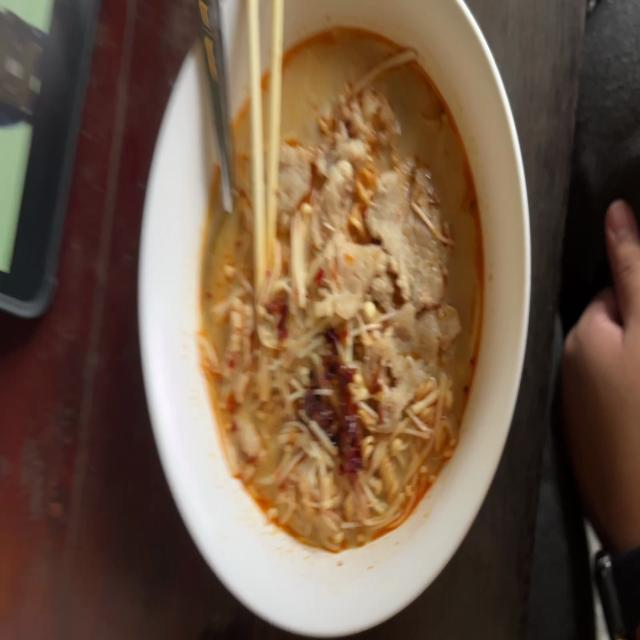noodle: (183, 12, 495, 564)
